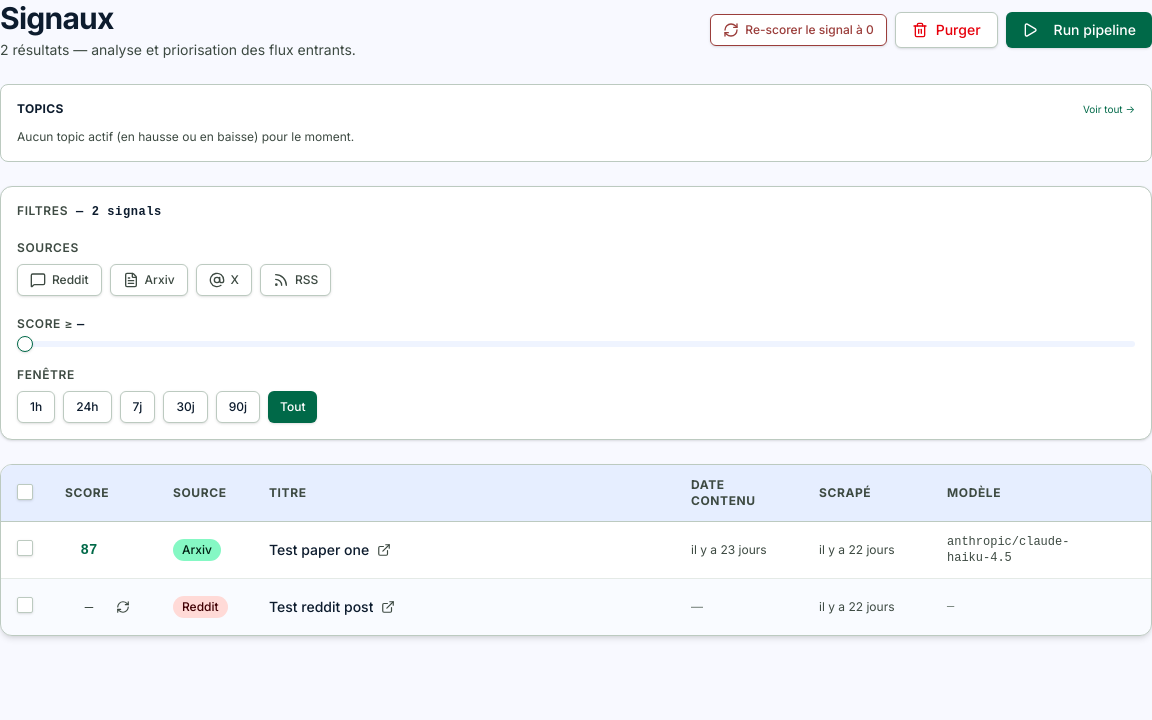
Test: Dashboard › ouvre le modal au click sur une row
The width and height of the screenshot is (1152, 720).
Click the text "Test paper one".
click(319, 550)  # box [269,540,369,560]
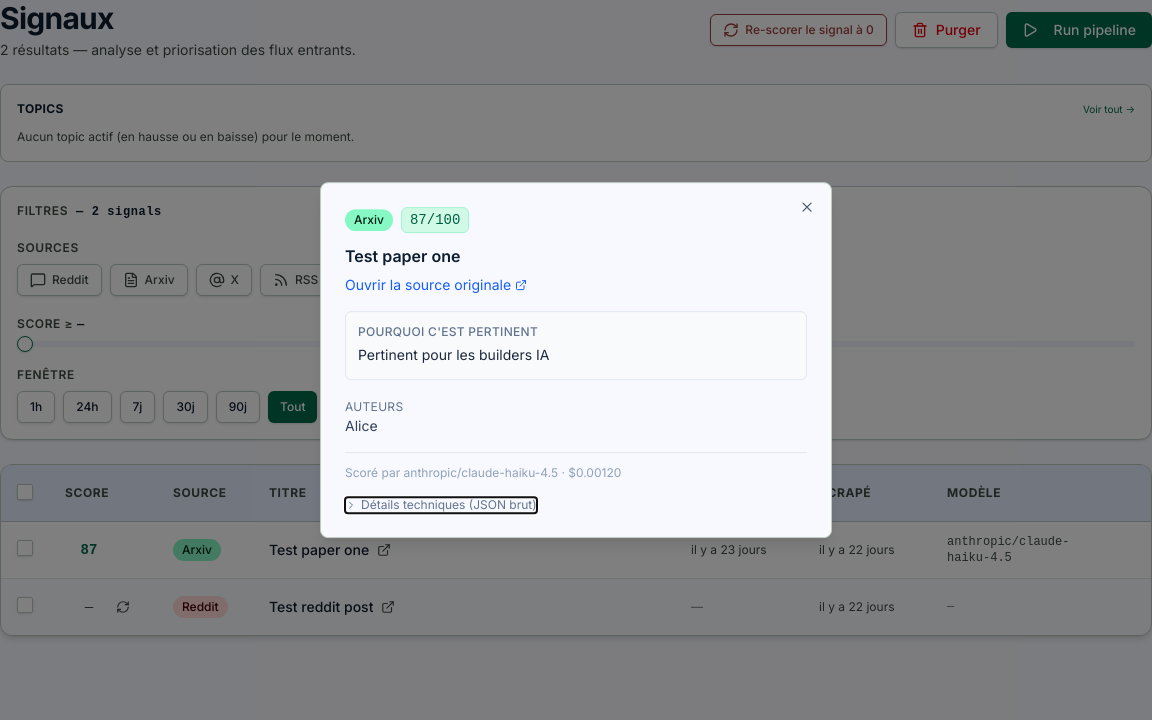
Check: the text "anthropic/claude-haiku-4.5" is shown, box [931,522,1091,578]
Check: the text "Pertinent pour les builders IA" is shown, box [358,346,549,363]
